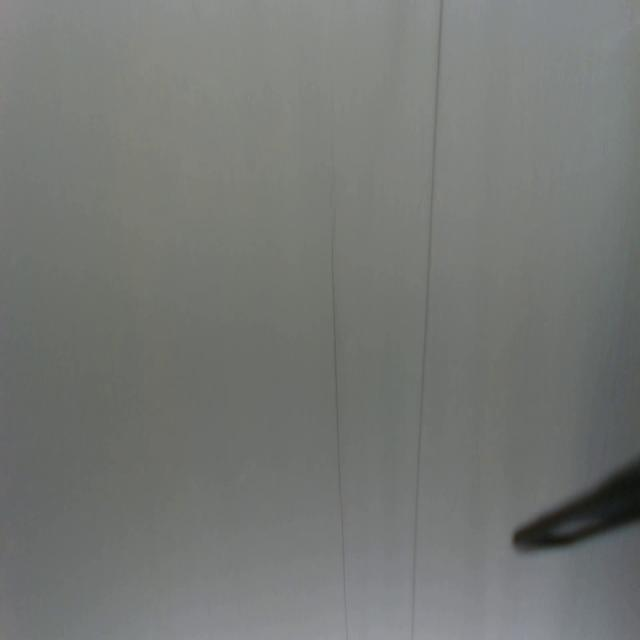crease: (410, 0, 444, 639), (328, 230, 350, 634)
